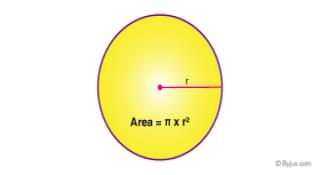Circle: (95, 11, 227, 166)
